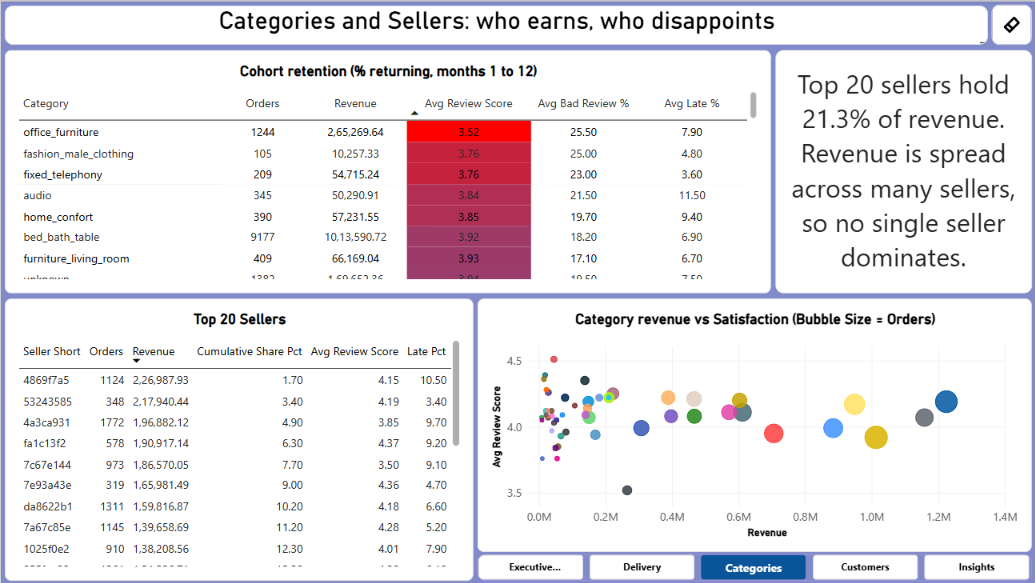

The page's visual inventory and layout, read from the dashboard file:
{"tool":"powerbi","page":{"name":"Categories","canvas":[1280,720],"ordinal":2},"visuals":[{"type":"scatterChart","title":"Category revenue vs Satisfaction (Bubble Size = Orders)","fields":{"Series":["agg_category_satisfaction.category"],"Size":["Sum(agg_category_satisfaction.orders)"],"X":["agg_category_satisfaction.revenue"],"Y":["agg_category_satisfaction.avg_review_score"]},"box":[590,367.5,685.8,313.3],"z":0},{"type":"tableEx","title":"Cohort retention (% returning, months 1 to 12)","fields":{"Values":["agg_category_satisfaction.category","Sum(agg_category_satisfaction.orders)","Sum(agg_category_satisfaction.revenue)","Avg(agg_category_satisfaction.avg_review_score)","Avg(agg_category_satisfaction.bad_review_pct)","Avg(agg_category_satisfaction.late_pct)"]},"box":[5,60,947.9,300.6],"z":1000},{"type":"textbox","box":[958.7,60,317.3,301.3],"z":2000},{"type":"textbox","title":"Categories and Sellers: who earns, who disappoints","box":[5.3,5.3,1216.5,48.2],"z":3000},{"type":"tableEx","title":"Top 20 Sellers","fields":{"Values":["agg_top_sellers.seller_short","agg_top_sellers.orders","agg_top_sellers.revenue","agg_top_sellers.cumulative_share_pct","agg_top_sellers.avg_review_score","agg_top_sellers.late_pct"]},"box":[4.4,366.9,580,349],"z":4000},{"type":"pageNavigator","box":[590,684.2,685.8,33.3],"z":5000},{"type":"actionButton","box":[1226.2,3.8,50,50],"z":6000}]}

Visuals, with their boxes in screenshot pixels (x1, y1, x2, y2), scaled from the page's 1280x720 canvas onto the 1035x583 screenshot:
"Category revenue vs Satisfaction (Bubble Size = Orders)" scatterChart: <box>477,298,1032,551</box>
"Cohort retention (% returning, months 1 to 12)" tableEx: <box>4,49,771,292</box>
textbox: <box>775,49,1032,293</box>
"Categories and Sellers: who earns, who disappoints" textbox: <box>4,4,988,43</box>
"Top 20 Sellers" tableEx: <box>4,297,473,580</box>
pageNavigator: <box>477,554,1032,581</box>
actionButton: <box>991,3,1032,44</box>
